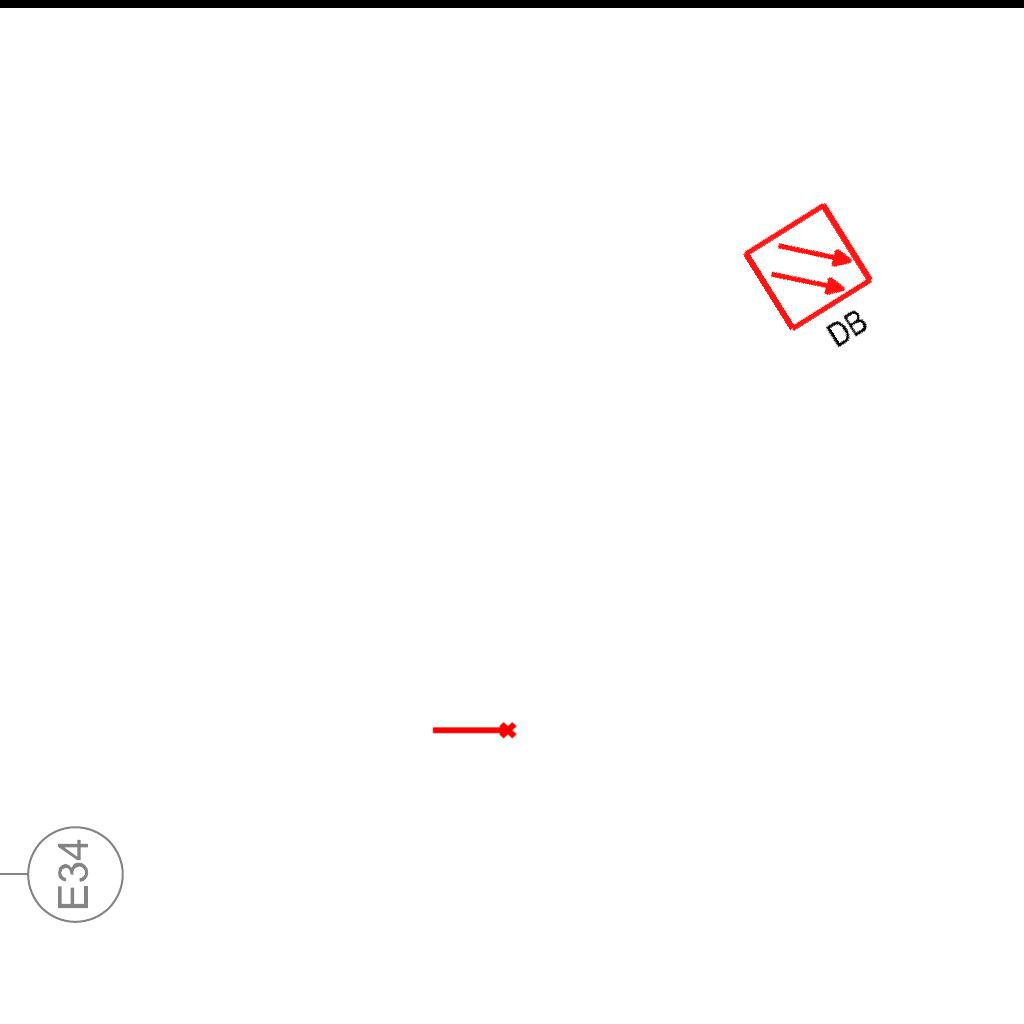ASR_Ansaugoeffnung: (430, 720, 518, 743)
DB_Melder_in_Doppelboden_mit_Revisionsoeffnung_mind_40_x_40_cm: (732, 190, 908, 377)
